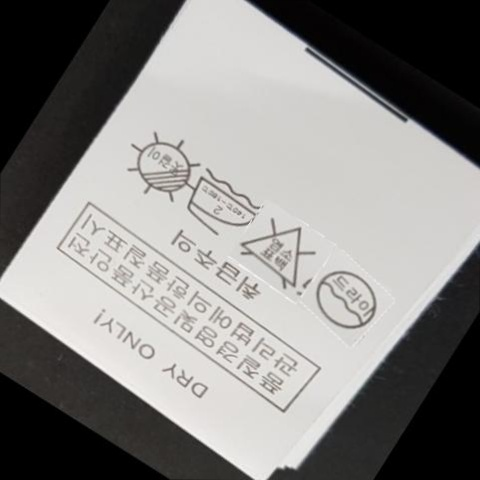dry_clean: (317, 268, 377, 332)
iron_medium: (188, 172, 254, 234)
line_dry_in_shade: (131, 132, 197, 203)
non_chlorine_bleach: (245, 212, 319, 288)
